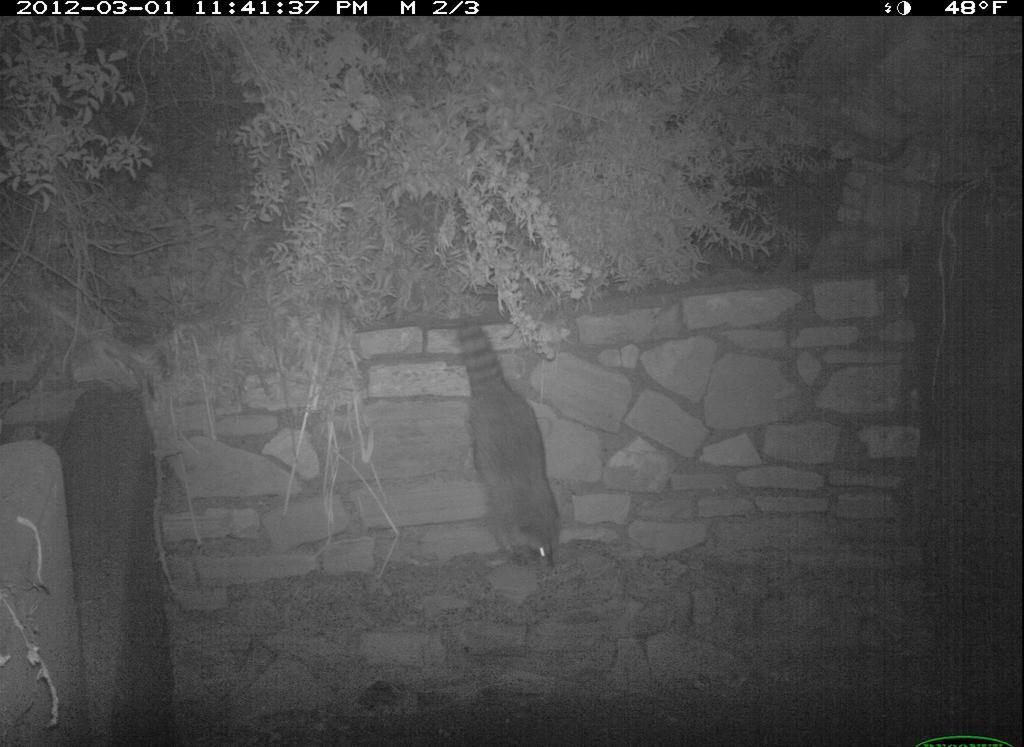raccoon: (452, 317, 568, 582)
